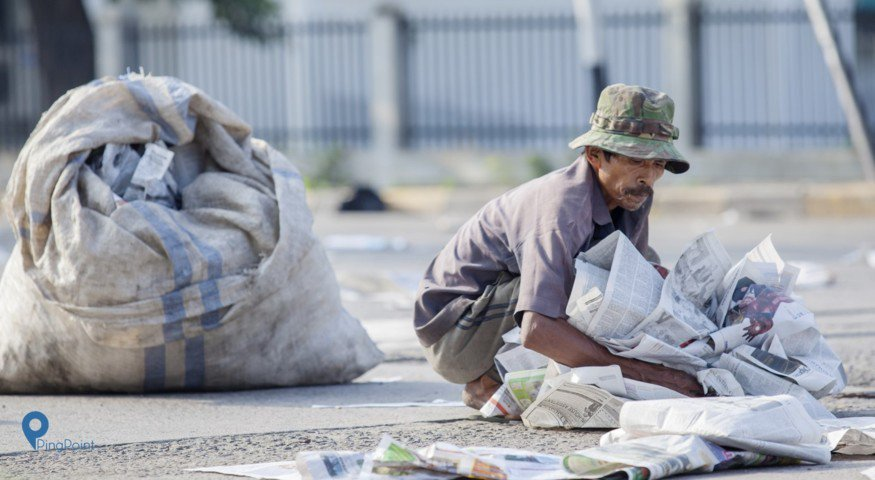pemulung: (399, 80, 860, 465)
